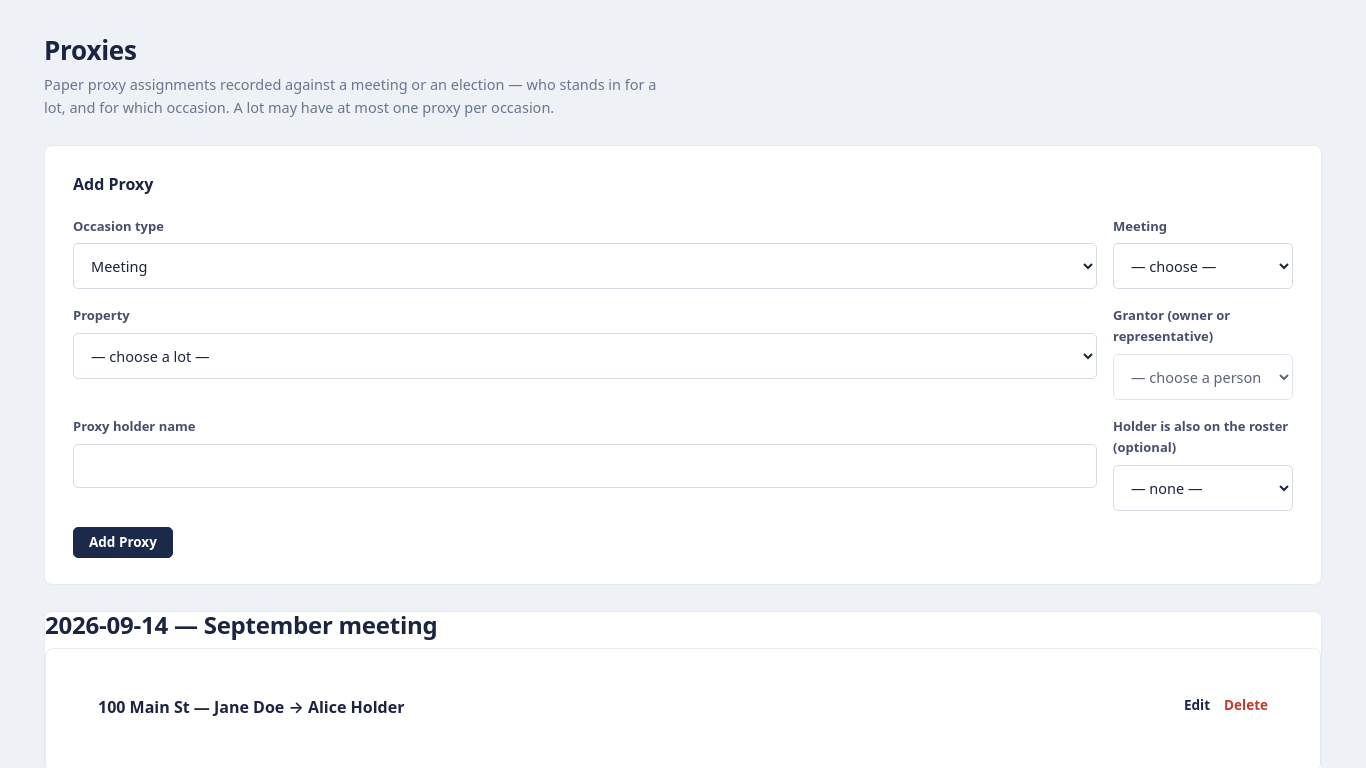
ProxiesManager › edit affordance › Cancel returns the form to add mode
This screenshot has width=1366, height=768.
Step 1. Click the button with aria-label "Edit proxy for 100 Main St" → click(1197, 706), box [1184,695,1210,717]
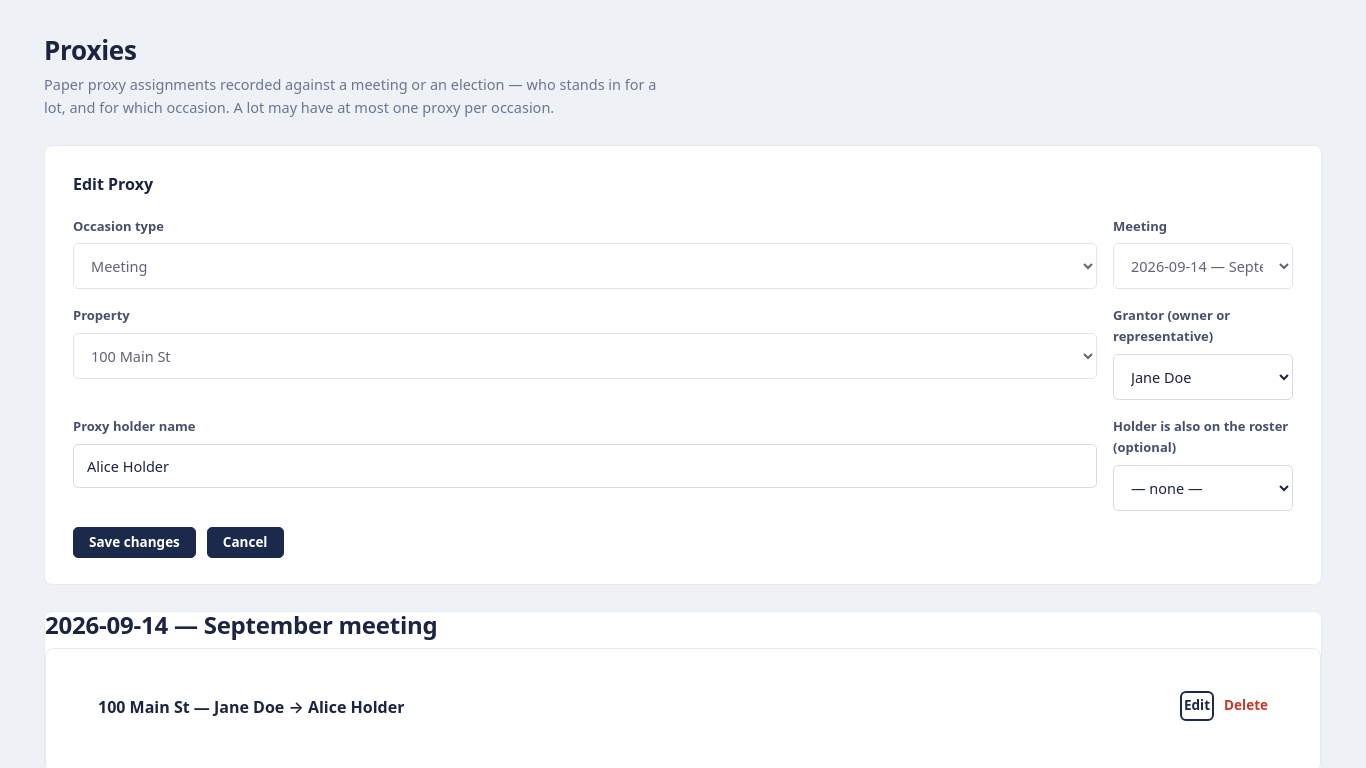
Step 2. Click the button "Cancel" → click(245, 542), box [207,526,284,558]
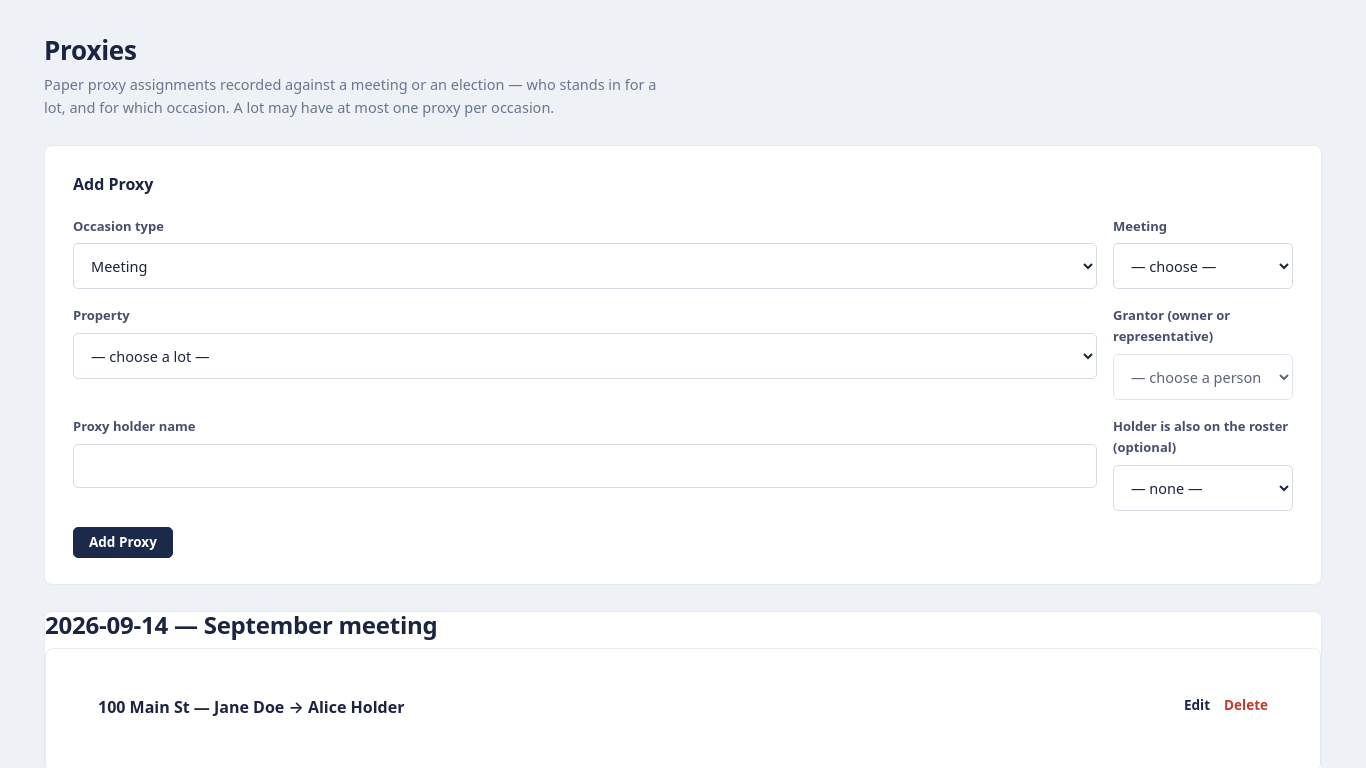
Check: the button "Add Proxy" is shown, box [73,526,173,558]
Check: the field labelled "Proxy holder name" is empty, box [73,444,1097,488]
Check: the dropdown labelled "Property" is enabled, box [73,333,1097,379]
